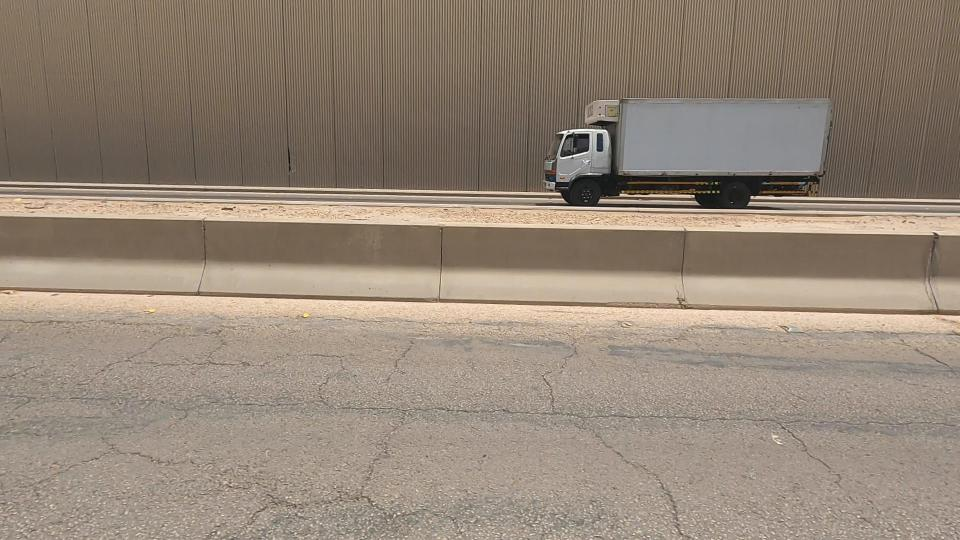CLUTTER_SIDEWALK: (455, 178, 920, 276), (0, 156, 355, 260), (248, 169, 599, 263)
